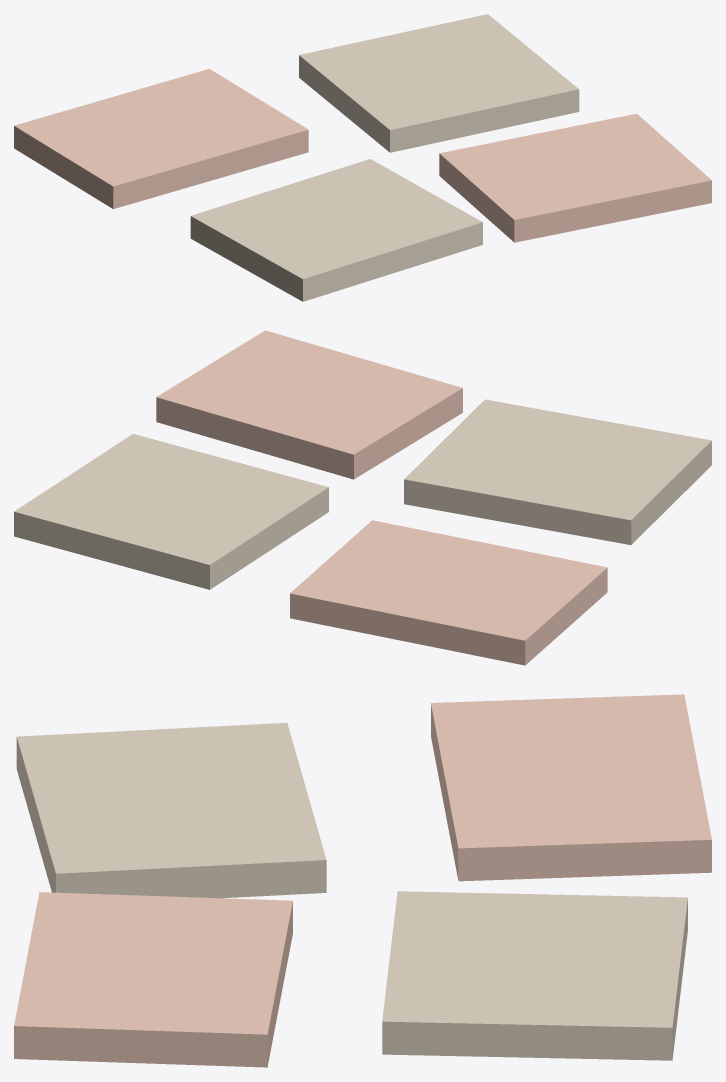
Rendered from garden_pathway.glb.
3 renders of one model, top to bottom at view 1: azimuth 30°, elevation 25°; view 2: azimuth 150°, elevation 25°; view 3: azimuth 270°, elevation 25°, orthographic. The views are drawn at different scales.
Visible parts, largest first — view 1: GardenPathway; view 2: GardenPathway; view 3: GardenPathway.
Boxes of the visible parts, <box> form: GardenPathway: <box>14,14,711,301</box>; GardenPathway: <box>14,330,711,665</box>; GardenPathway: <box>14,694,711,1067</box>.
Size of the model in its own units: 0.8862 by 0.04 by 0.7683.
